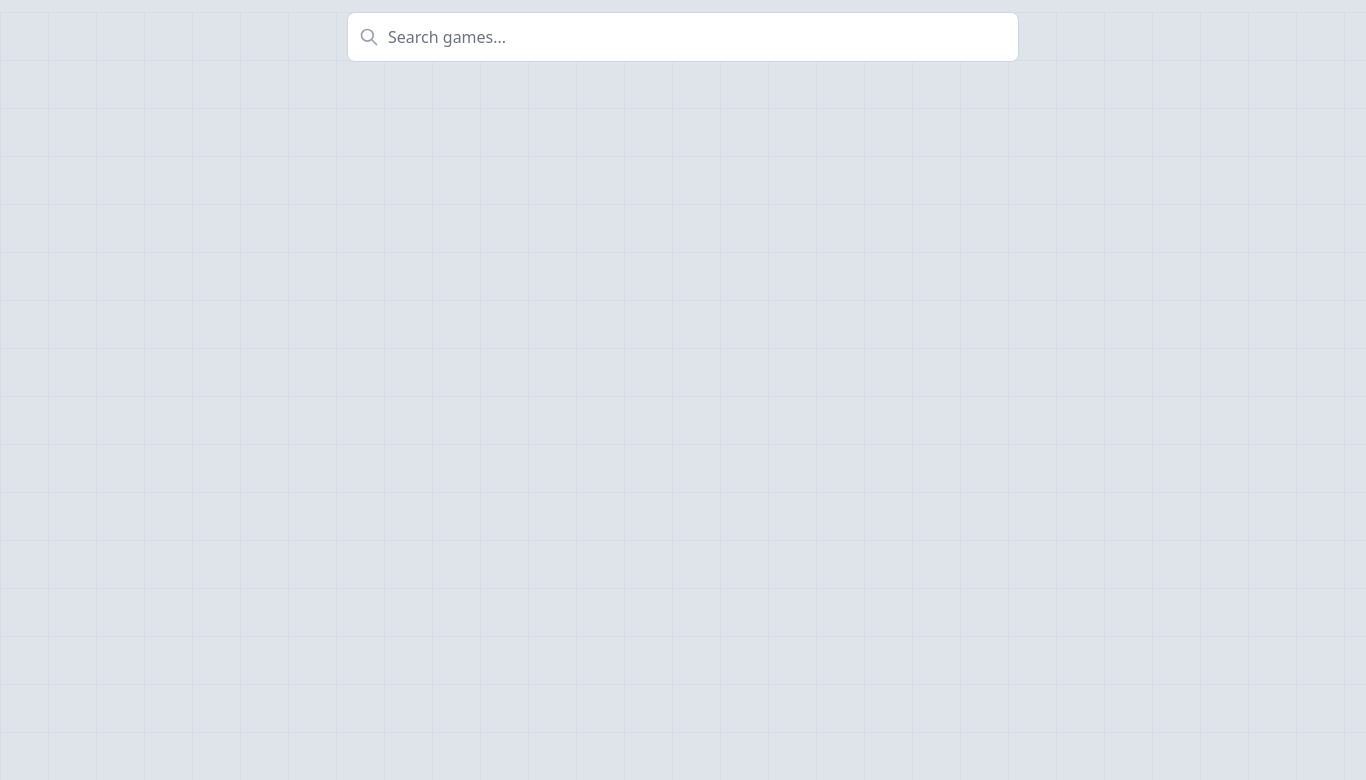
Test: SearchBar › clears input when clear button is clicked
Type something
Step 1. Type "test" into the field labelled "Search games..." → [683, 37], box x1=347 y1=12 x2=1019 y2=62
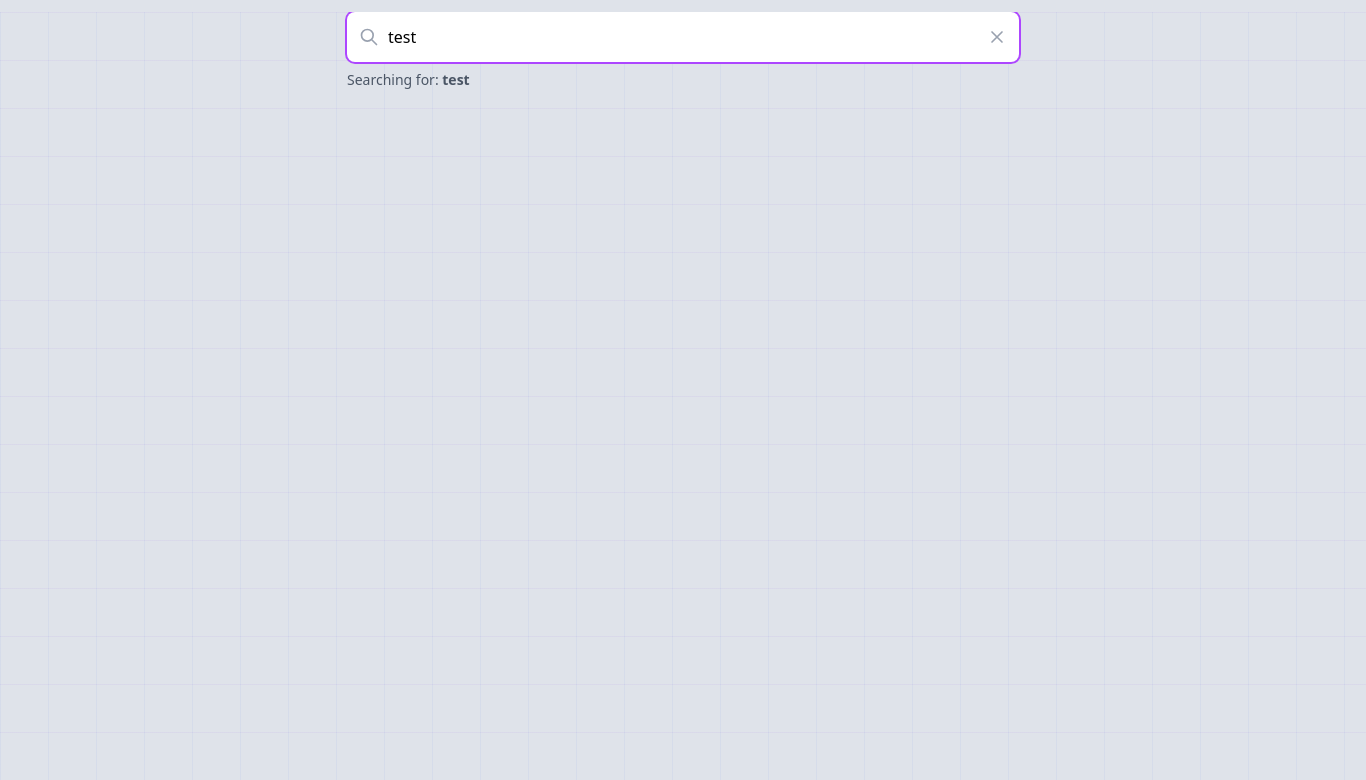
Click clear button
Step 2. Click the button named "Clear search" → [1003, 37], box x1=987 y1=12 x2=1019 y2=62
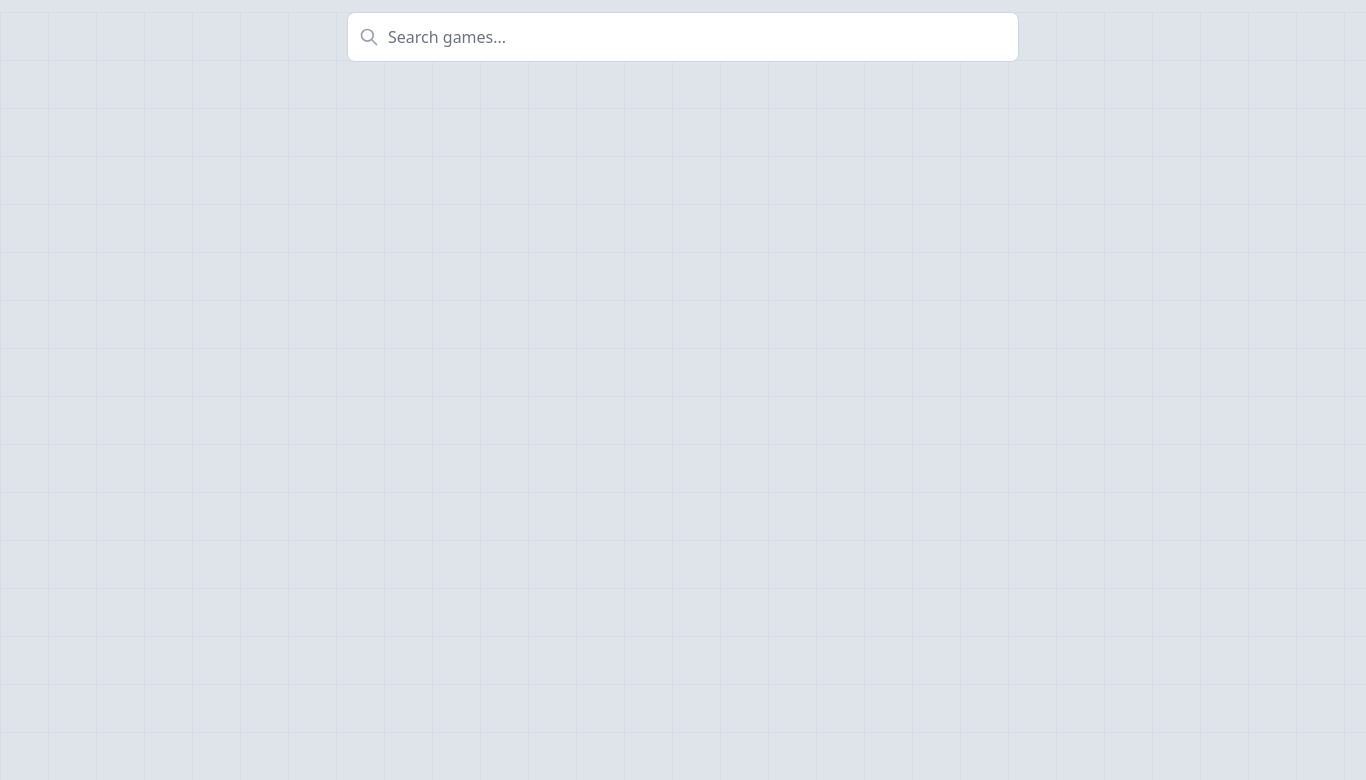
Check: the field labelled "Search games..." is empty, box x1=347 y1=12 x2=1019 y2=62
